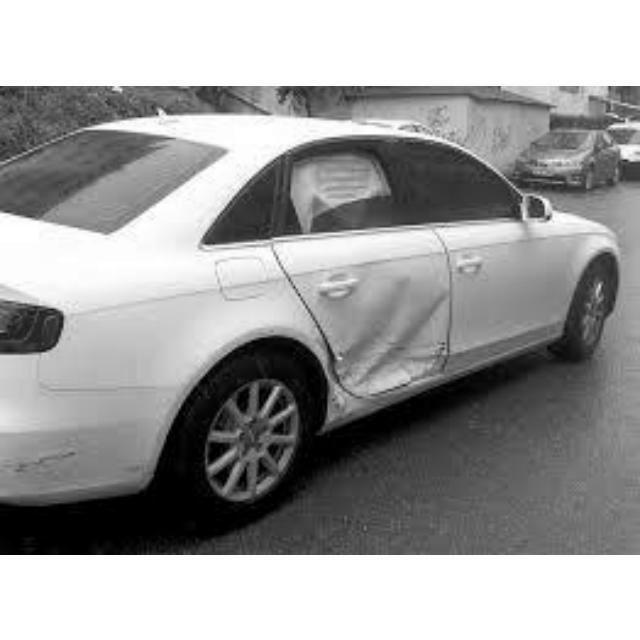doorouter-dent: (325, 242, 439, 398)
